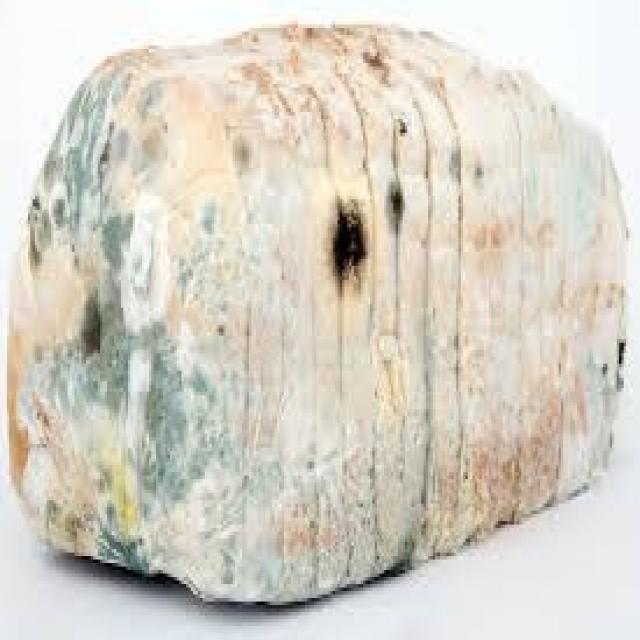organic waste: (4, 21, 624, 602), (9, 45, 240, 598)
